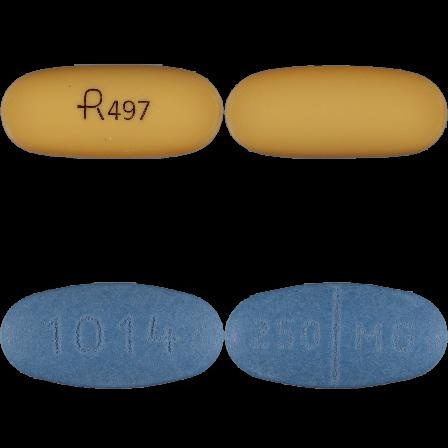16590-319: (0, 0, 224, 224)
